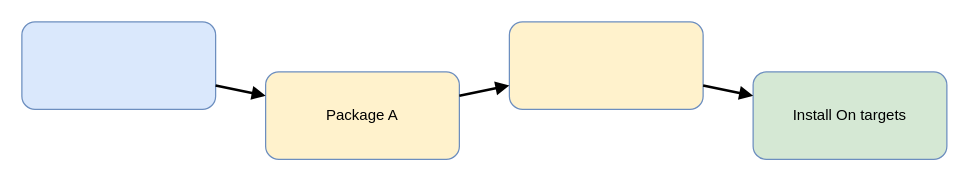
The diagram is 969 pixels wide and 181 high, and some of its shapes have lost their labels. Each missing label, with the centre of its shape:
Package B: the point at 605,65
Policy Block: the point at 118,65
